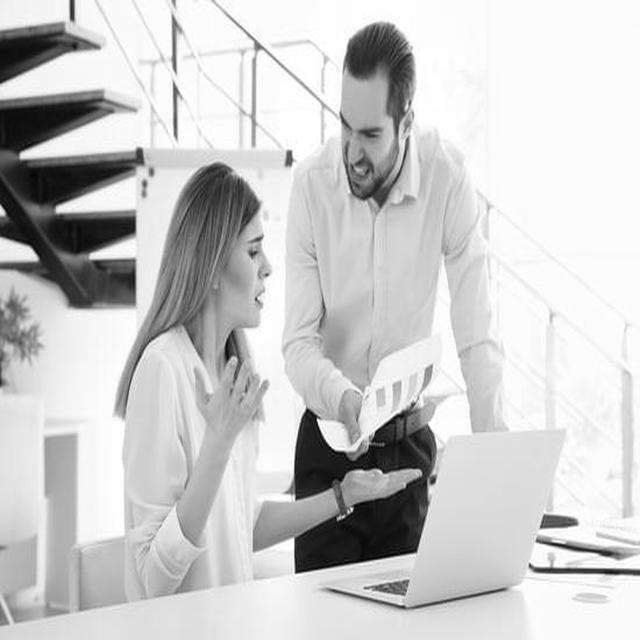Angry: (339, 79, 401, 201)
